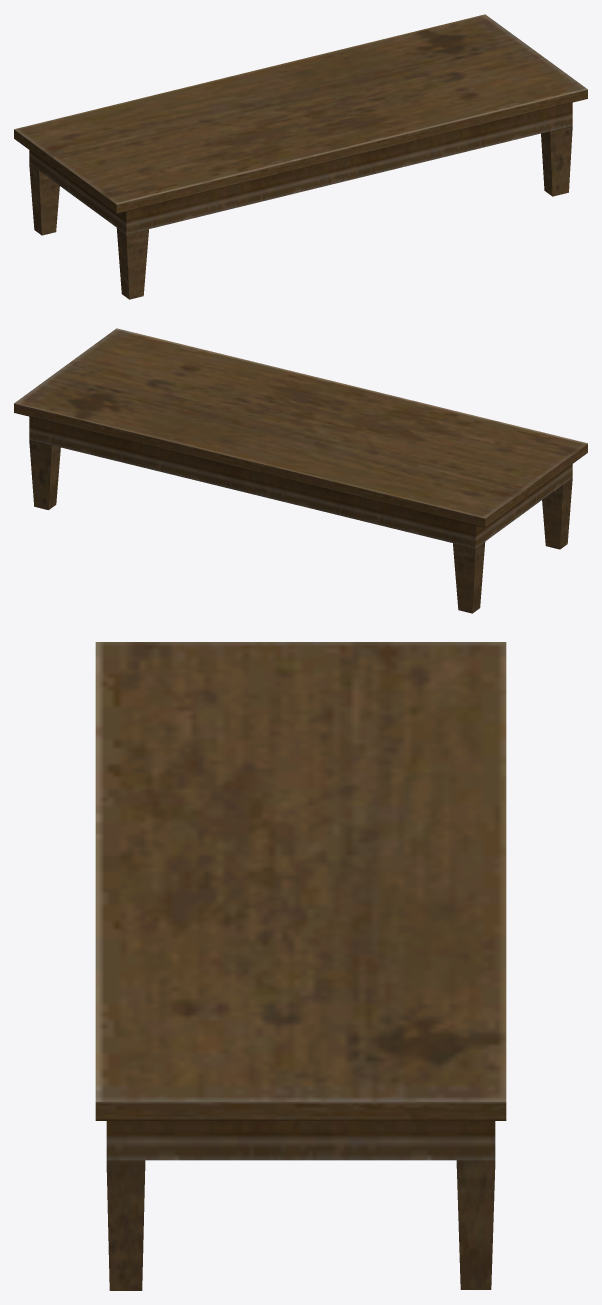
The model's file is slum_wood1.fbx.
3 renders of one model, top to bottom at view 1: azimuth 30°, elevation 25°; view 2: azimuth 150°, elevation 25°; view 3: azimuth 270°, elevation 25°, orthographic. The views are drawn at different scales.
Visible parts, largest first — view 1: mesh_0; view 2: mesh_0; view 3: mesh_0.
Part boxes in pixels (<box>): mesh_0: <box>14,14,587,299</box>; mesh_0: <box>14,328,587,613</box>; mesh_0: <box>95,642,506,1290</box>.
Size of the model in its own units: 140 by 28.94 by 52.8.
1 material, 1 textured.
